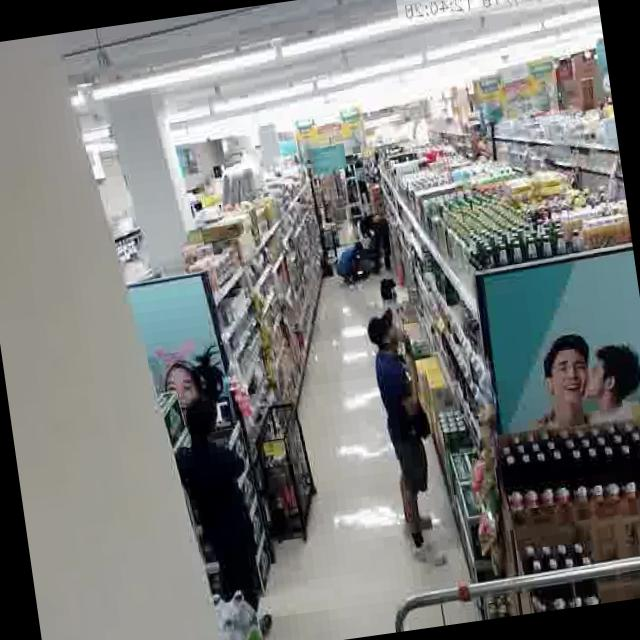shoplifting: (346, 288, 459, 581)
